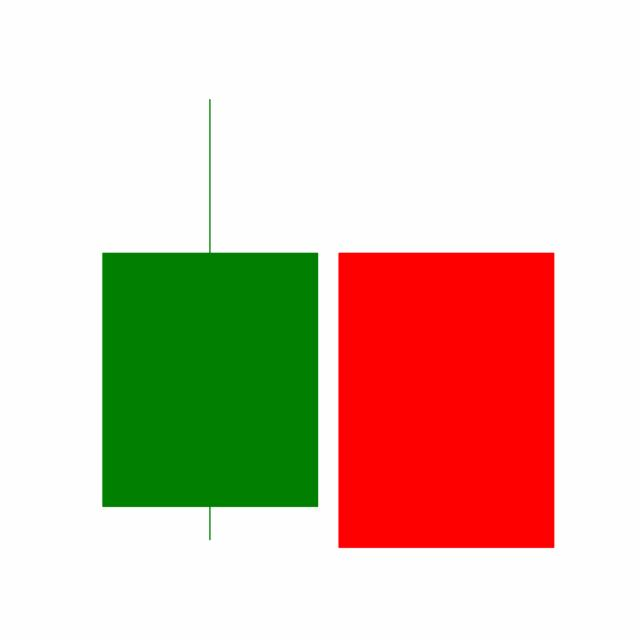Marubozu: (327, 249, 565, 550)
